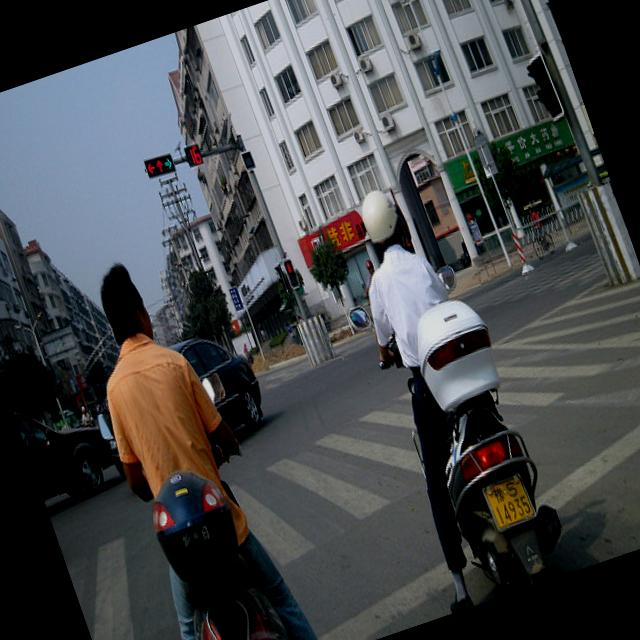Vehicle: (388, 291, 578, 602), (127, 448, 301, 640), (85, 322, 278, 486), (82, 317, 274, 476), (13, 385, 123, 509)
